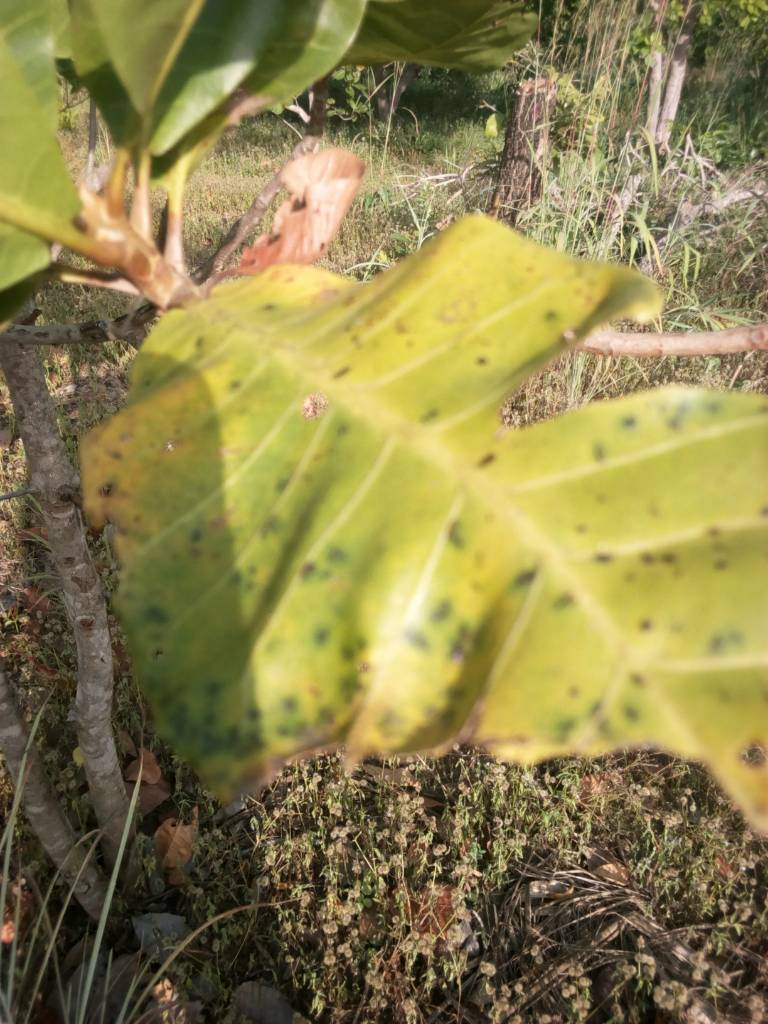Bactériose: (110, 280, 768, 800)
